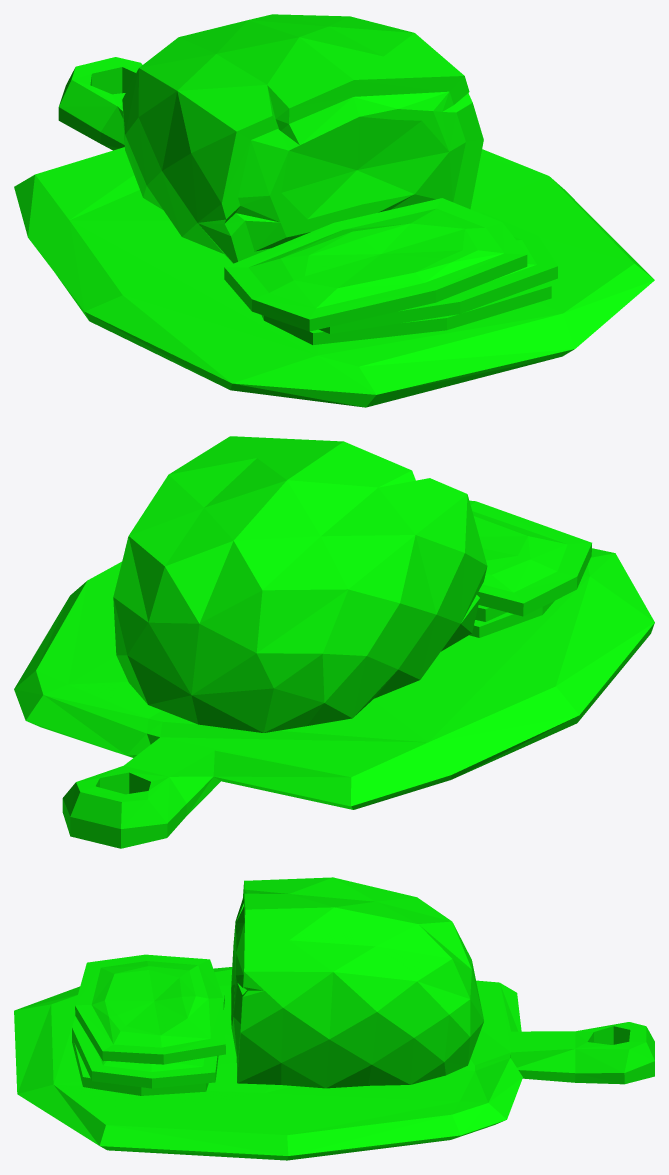
The model's file is SM_Cutting_Board_Round_Ham_Sliced.fbx.
The picture shows the model from 3 angles, top to bottom: view 1: azimuth 30°, elevation 25°; view 2: azimuth 150°, elevation 25°; view 3: azimuth 270°, elevation 25°; orthographic projection. The views are drawn at different scales.
Visible parts, largest first — view 1: cutting-board-round-ham-sliced; view 2: cutting-board-round-ham-sliced; view 3: cutting-board-round-ham-sliced.
Part boxes in pixels (x1,y1,x2,y2): cutting-board-round-ham-sliced: (14,14,654,407); cutting-board-round-ham-sliced: (14,436,654,848); cutting-board-round-ham-sliced: (14,877,654,1160).
Size of the model in its own units: 0.4456 by 0.1795 by 0.6257.
